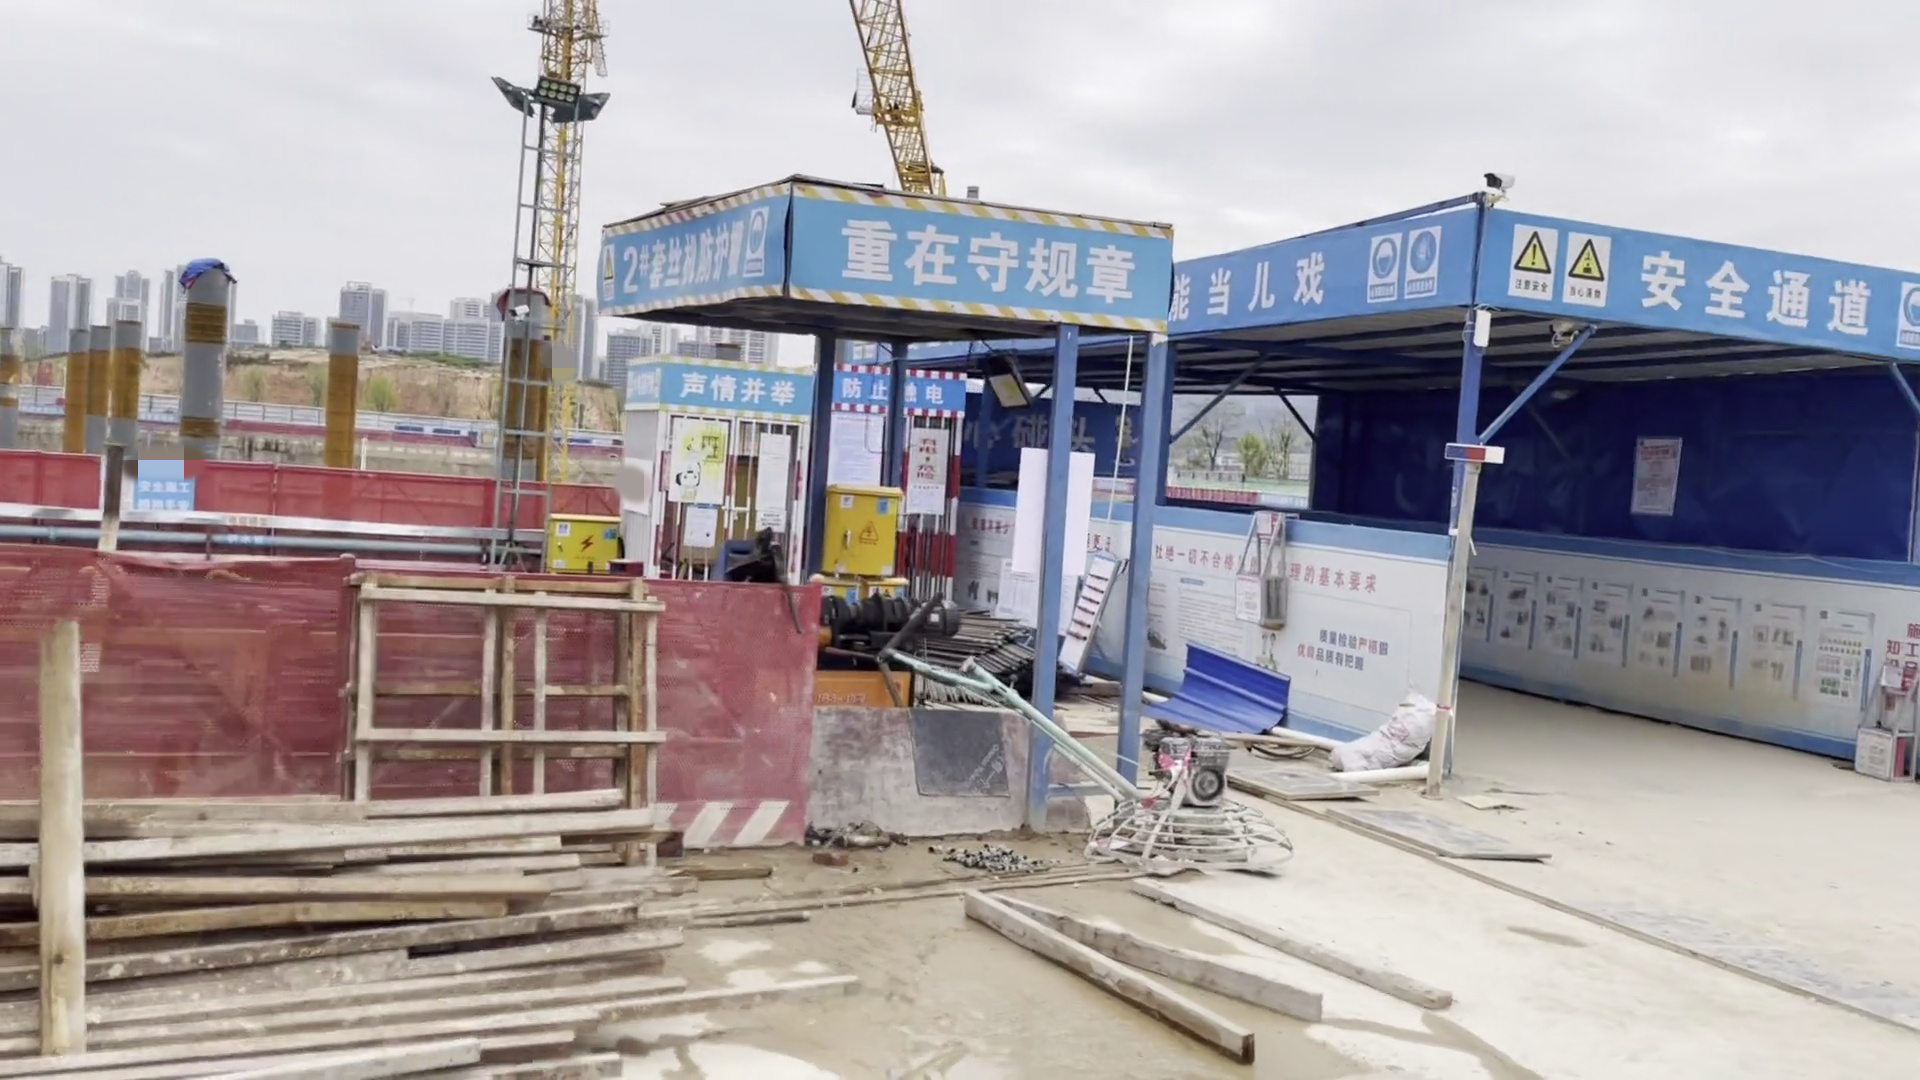ebox: (816, 484, 901, 601), (546, 510, 618, 589)
fence: (15, 525, 810, 849)
slogan: (593, 194, 1162, 322), (1505, 208, 1908, 359), (1180, 235, 1465, 313), (651, 355, 949, 409)
wood: (4, 799, 731, 1080)
